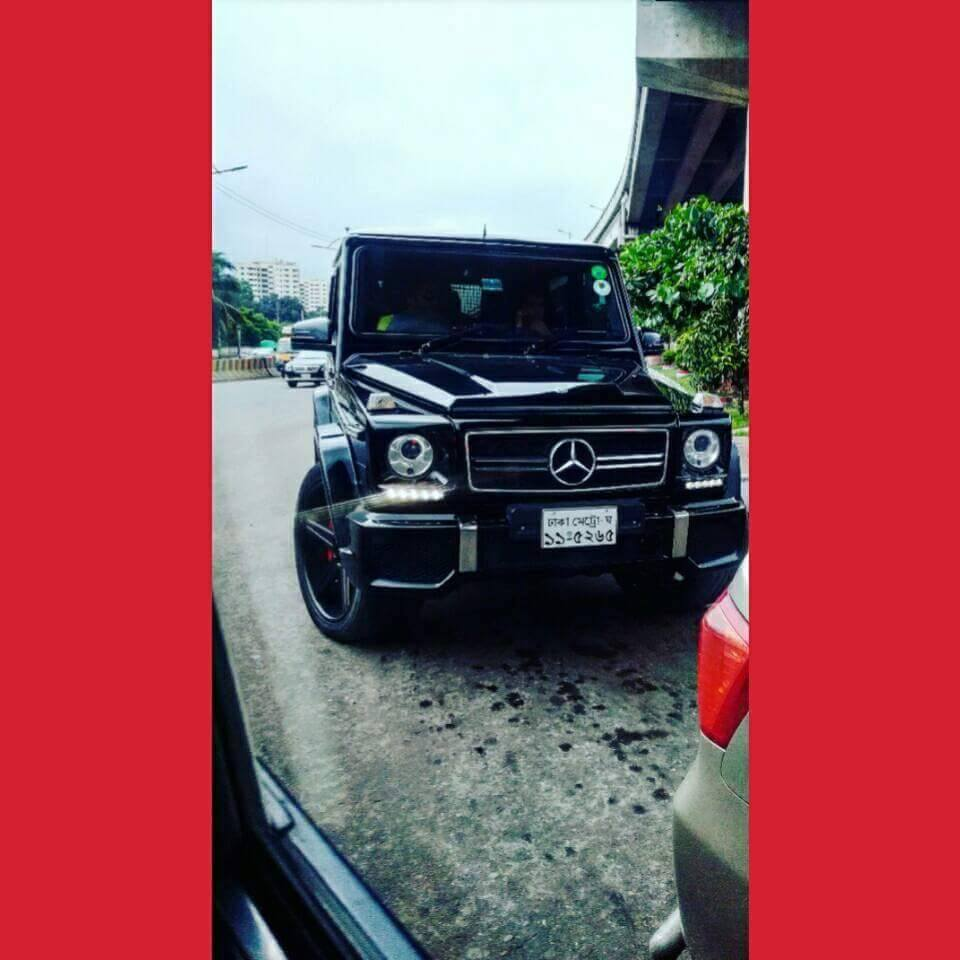registration_plate: (540, 505, 618, 548)
